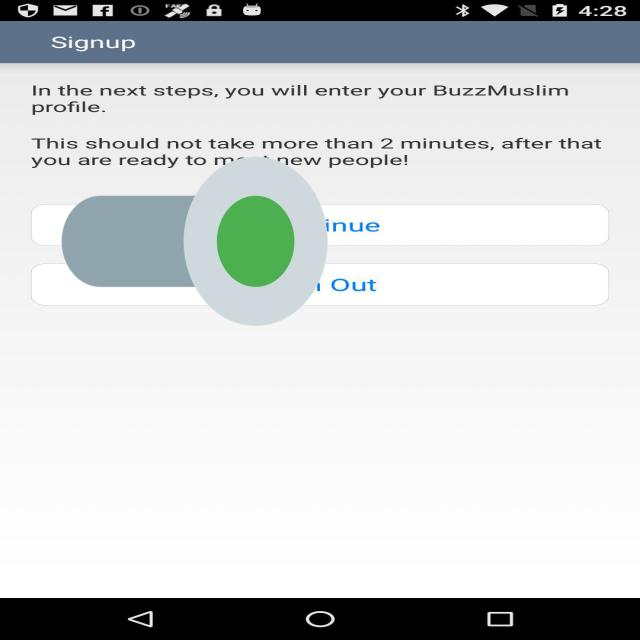social proof: (61, 85, 328, 398)
